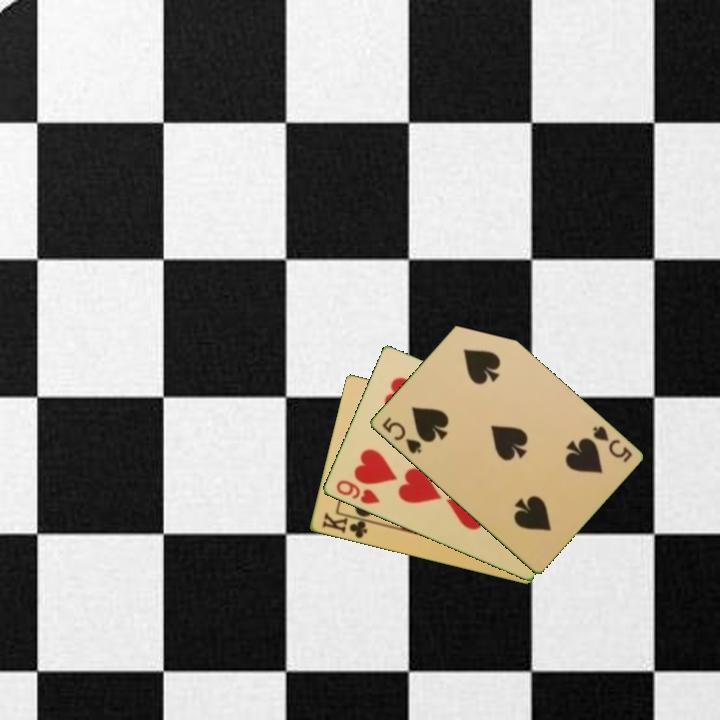5s: (378, 413, 424, 457), (589, 422, 635, 465)
9h: (332, 477, 382, 507)
Kc: (318, 509, 374, 542)
